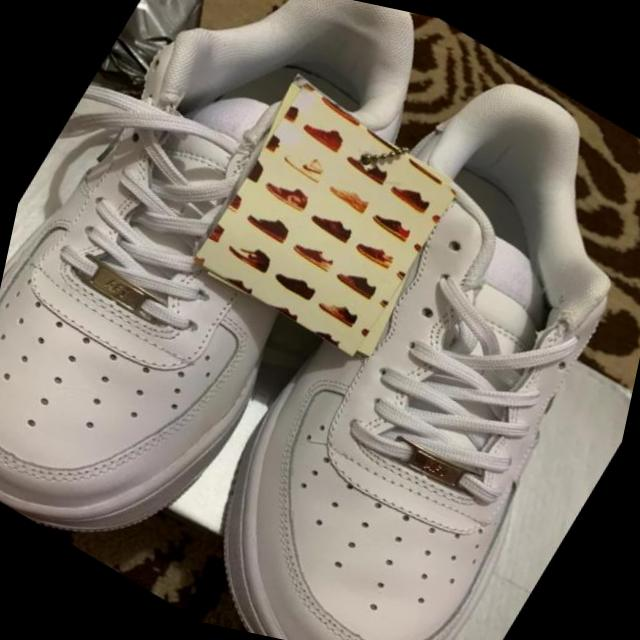nike_fake_airforce: (143, 7, 640, 640), (0, 0, 476, 631)
